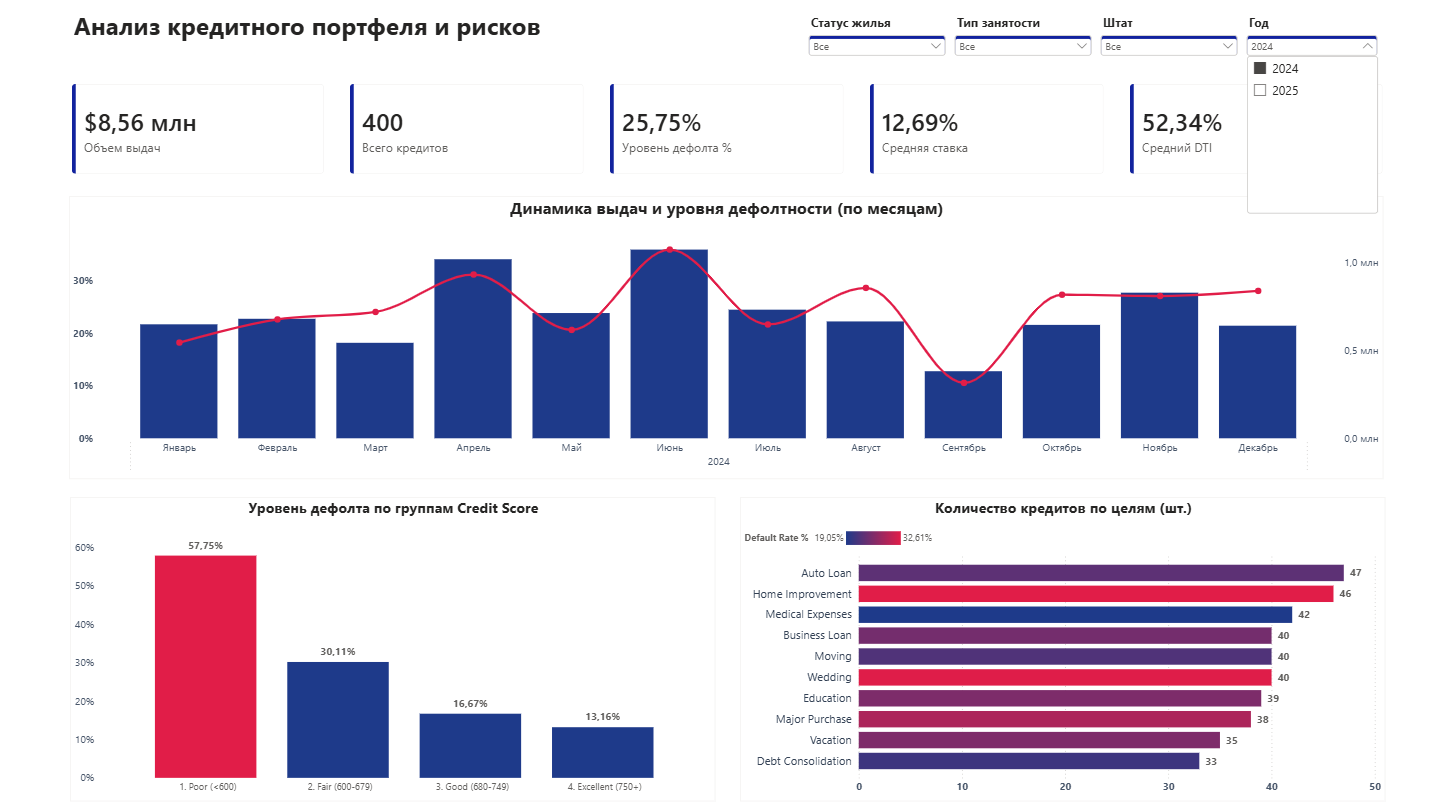

The dashboard page shown, as its layout file describes it:
{"tool":"powerbi","page":{"name":"Part 1","canvas":[1920,1080],"ordinal":0},"visuals":[{"type":"shape","box":[80,640,1760,432],"z":0},{"type":"shape","box":[78.8,247.5,1758.3,397.5],"z":1000},{"type":"cardVisual","fields":{"Data":["fact_loans.Total Volume"]},"box":[81.5,95.9,365.3,152.4],"z":2000},{"type":"cardVisual","fields":{"Data":["fact_loans.Total Loans"]},"box":[446.8,95.5,341.4,152.9],"z":3000},{"type":"cardVisual","fields":{"Data":["fact_loans.Default Rate %"]},"box":[788.4,95.5,341.4,152.9],"z":4000},{"type":"cardVisual","fields":{"Data":["Avg(fact_loans.avg_interest_rate)"]},"box":[1130,95.5,341.4,152.9],"z":5000},{"type":"cardVisual","fields":{"Data":["Avg(fact_loans.avg_dti_ratio)"]},"box":[1471.5,95.9,366.6,152.4],"z":6000},{"type":"lineClusteredColumnComboChart","title":"Динамика выдач и уровня дефолтности (по месяцам)","fields":{"Category":["fact_loans.application_date.Изменение.Иерархия дат.Год","fact_loans.application_date.Изменение.Иерархия дат.Месяц"],"Y":["fact_loans.Total Volume"],"Y2":["fact_loans.Default Rate %"]},"box":[94.7,260,1726.5,372.3],"z":7000},{"type":"columnChart","title":"Уровень дефолта по группам Credit Score","fields":{"Category":["dim_borrowers.Credit Score Group"],"Y":["fact_loans.Default Rate %"]},"box":[96,656,848,400],"z":8000},{"type":"barChart","title":"Количество кредитов по целям (шт.)","fields":{"Category":["fact_loans.loan_purpose"],"Y":["fact_loans.Total Loans"]},"box":[976,656,848,400],"z":9000},{"type":"slicer","fields":{"Values":["fact_loans.application_date.Изменение.Иерархия дат.Год"]},"box":[1632,16,192,80],"z":10000},{"type":"slicer","fields":{"Values":["dim_borrowers.state"]},"box":[1440,16,200,77.1],"z":11000},{"type":"slicer","fields":{"Values":["dim_borrowers.employment_status"]},"box":[1248,16,200,77.1],"z":12000},{"type":"slicer","fields":{"Values":["dim_borrowers.home_ownership"]},"box":[1056,16,200,77.1],"z":13000},{"type":"textbox","box":[95.7,8.6,641.4,58.6],"z":14000}]}

Visuals, with their boxes in screenshot pixels (x1, y1, x2, y2), scaled from the page's 1920x1080 canvas onto the 1451x812 screenshot:
shape: <region>60, 481, 1391, 806</region>
shape: <region>60, 186, 1388, 485</region>
cardVisual - fact_loans.Total Volume: <region>62, 72, 338, 187</region>
cardVisual - fact_loans.Total Loans: <region>338, 72, 596, 187</region>
cardVisual - fact_loans.Default Rate %: <region>596, 72, 854, 187</region>
cardVisual - Avg(fact_loans.avg_interest_rate): <region>854, 72, 1112, 187</region>
cardVisual - Avg(fact_loans.avg_dti_ratio): <region>1112, 72, 1389, 187</region>
"Динамика выдач и уровня дефолтности (по месяцам)" lineClusteredColumnComboChart: <region>72, 195, 1376, 475</region>
"Уровень дефолта по группам Credit Score" columnChart: <region>73, 493, 713, 794</region>
"Количество кредитов по целям (шт.)" barChart: <region>738, 493, 1378, 794</region>
slicer - fact_loans.application_date.Изменение.Иерархия дат.Год: <region>1233, 12, 1378, 72</region>
slicer - dim_borrowers.state: <region>1088, 12, 1239, 70</region>
slicer - dim_borrowers.employment_status: <region>943, 12, 1094, 70</region>
slicer - dim_borrowers.home_ownership: <region>798, 12, 949, 70</region>
textbox: <region>72, 6, 557, 51</region>
